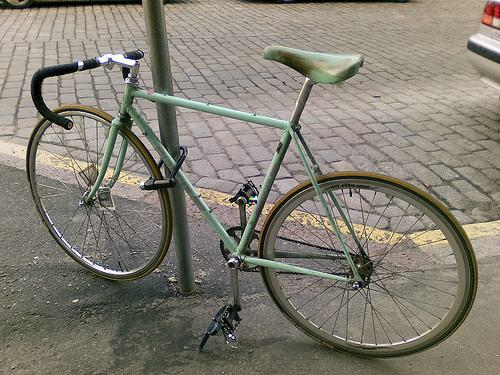car: (26, 41, 480, 359)
